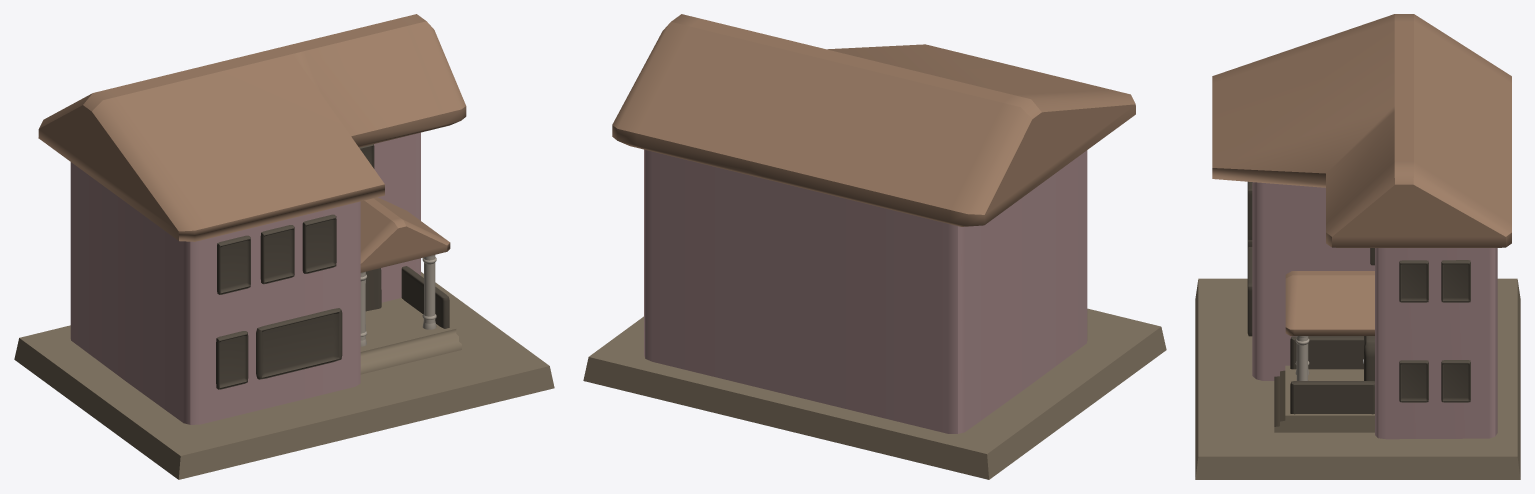
File: houseBuilding.fbx
3 views of the same model, side by side, from view 1: azimuth 30°, elevation 25°; view 2: azimuth 150°, elevation 25°; view 3: azimuth 270°, elevation 25° (orthographic). The views are drawn at different scales.
Parts seen in each view (by area): view 1: polySurface17; view 2: polySurface17; view 3: polySurface17.
Boxes of the visible parts, x1,y1,x2,y2 form: polySurface17: (14, 14, 554, 479); polySurface17: (583, 14, 1166, 479); polySurface17: (1195, 14, 1520, 479).
Bounding box in the file's own units: 16.51 × 12.58 × 12.5.
